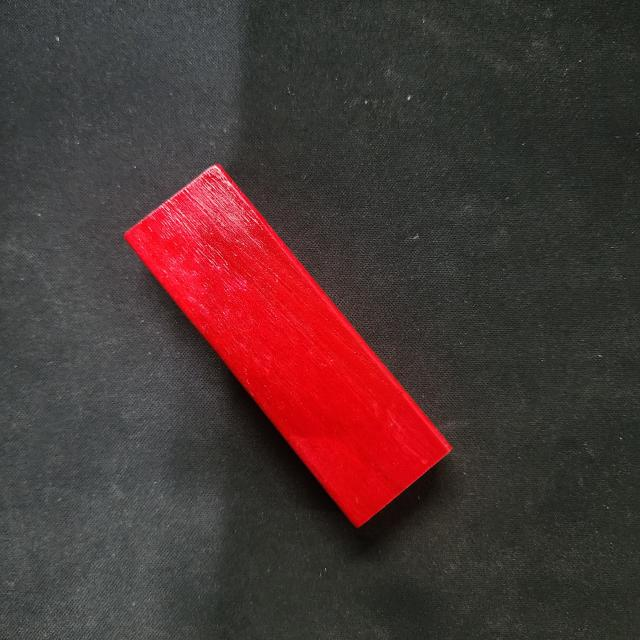red: (117, 157, 453, 528)
